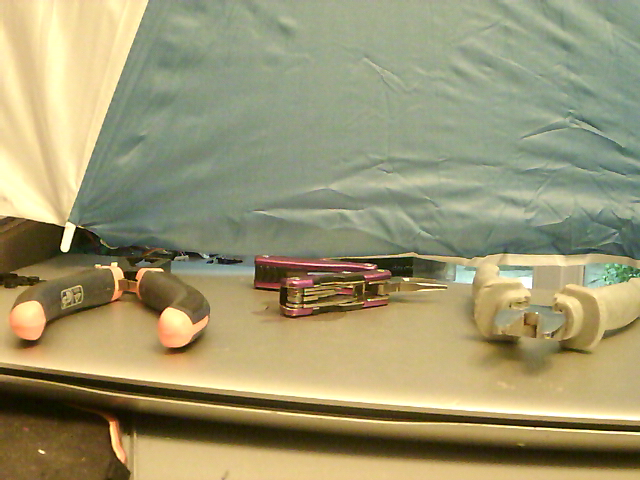pliers: (474, 266, 640, 357), (253, 252, 454, 319)
